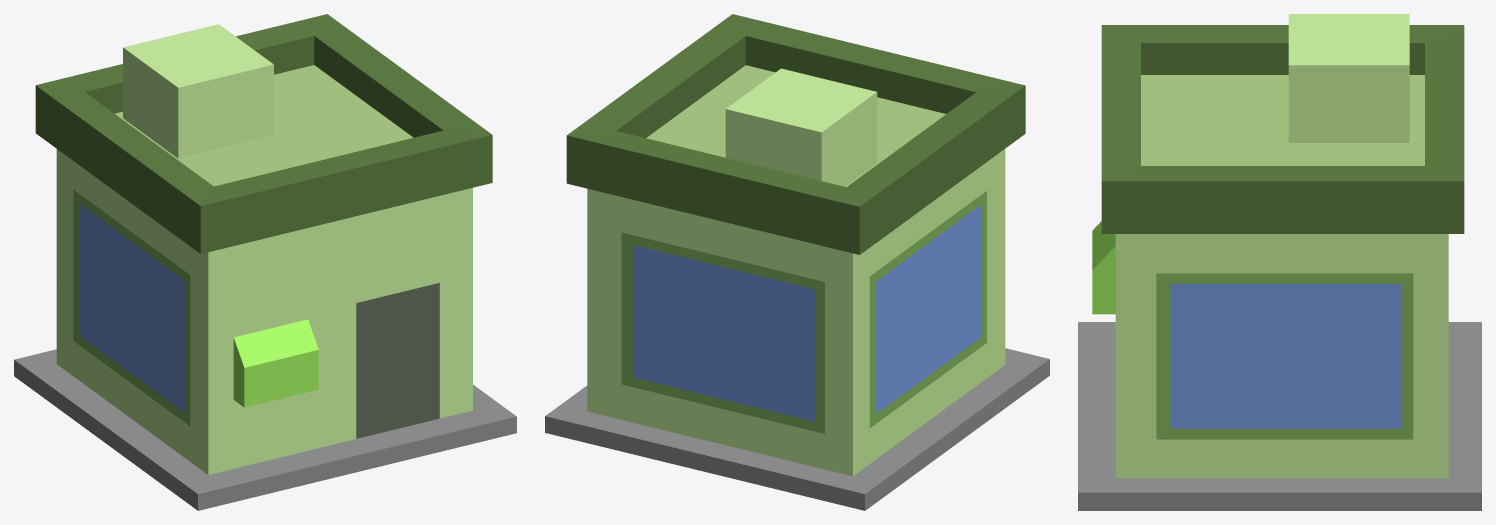
The model's file is Mini_Market_2.FBX.
The picture shows the model from 3 angles, left to right: view 1: azimuth 30°, elevation 25°; view 2: azimuth 150°, elevation 25°; view 3: azimuth 270°, elevation 25°; orthographic projection. The views are drawn at different scales.
Visible parts, largest first — view 1: Box005, Box002; view 2: Box005, Box002; view 3: Box005, Box002.
Part boxes in pixels (x1,y1,x2,y2): Box005: [35, 14, 492, 474]; Box002: [14, 349, 516, 510]; Box005: [566, 14, 1025, 476]; Box002: [545, 348, 1049, 510]; Box005: [1092, 14, 1464, 478]; Box002: [1078, 322, 1481, 510].
Bounding box in the file's own units: 1 × 1 × 1.
6 materials, 5 textured.
